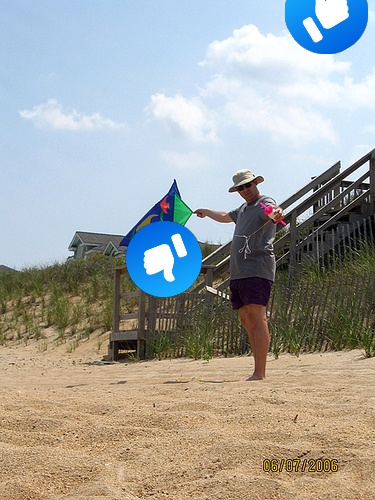like: (126, 221, 202, 297), (285, 0, 368, 54)
